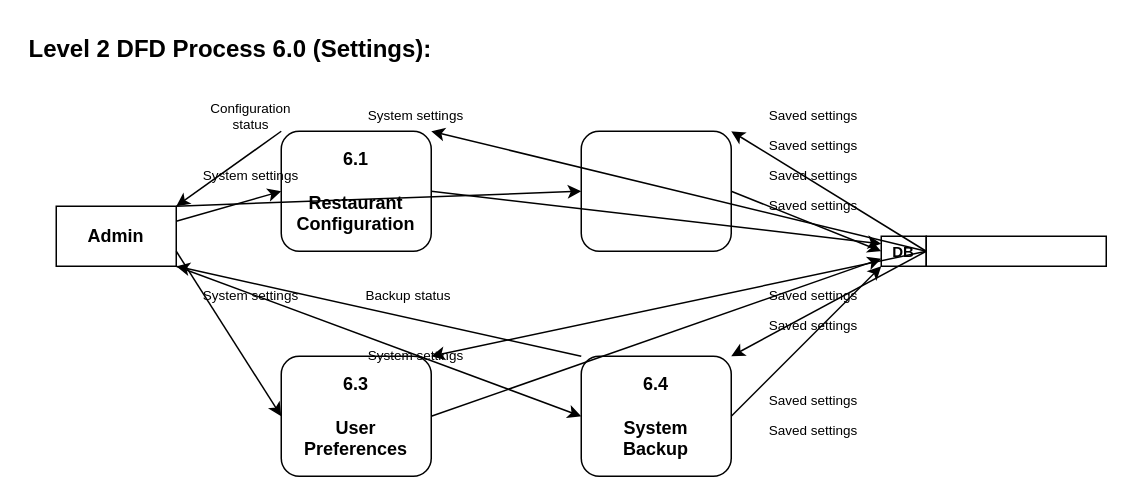
The diagram is 1133 pixels wide and 503 high, and some of its shapes have lost their labels. The shapes that lost their labels are listed below. From the top down, each one's centre as x and y in pixels, then its label:
At (655,190): "6.2 Tax Settings".
At (1015,250): "Restaurant_Management".
